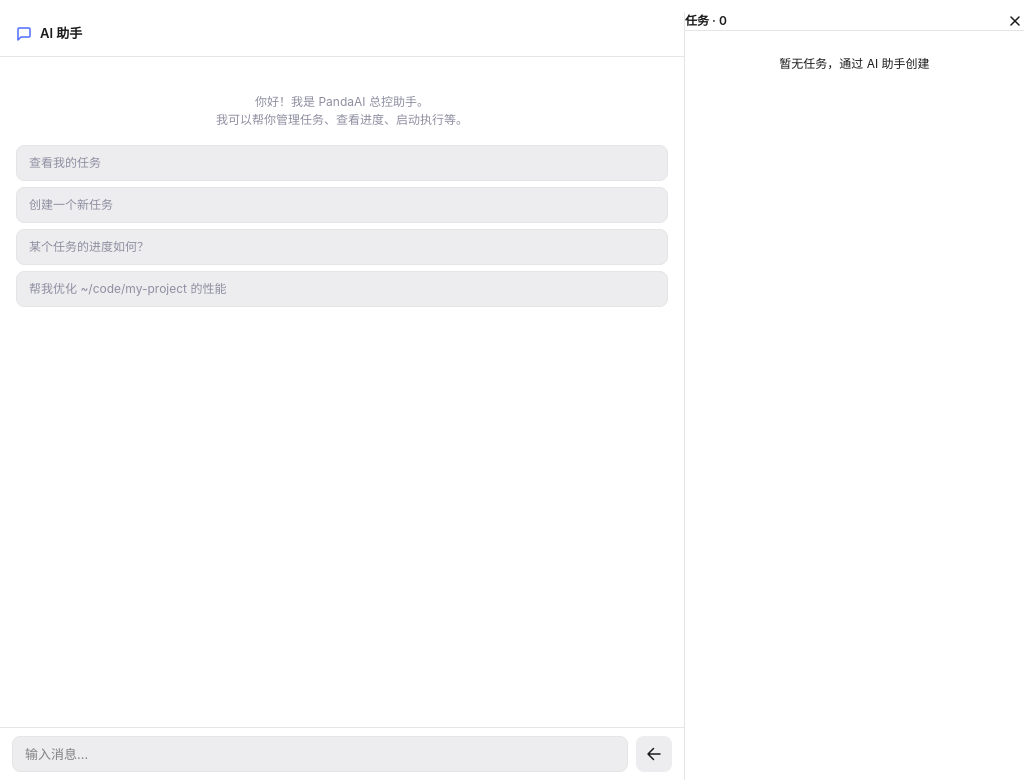
MainDashboard › 收起面板后显示展开按钮
Click the button named "收起面板" at coordinates (1015, 21), box top-left (1006, 12), bottom-right (1024, 30)
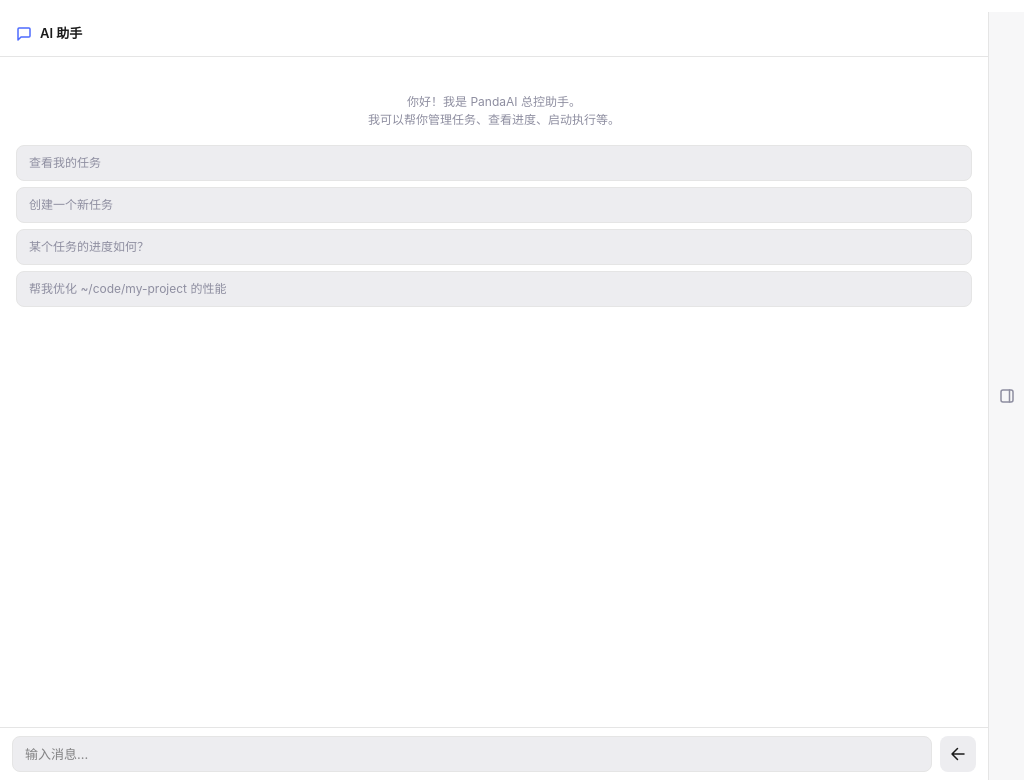
Now the button named "展开任务面板" is shown, box top-left (988, 12), bottom-right (1024, 779)
